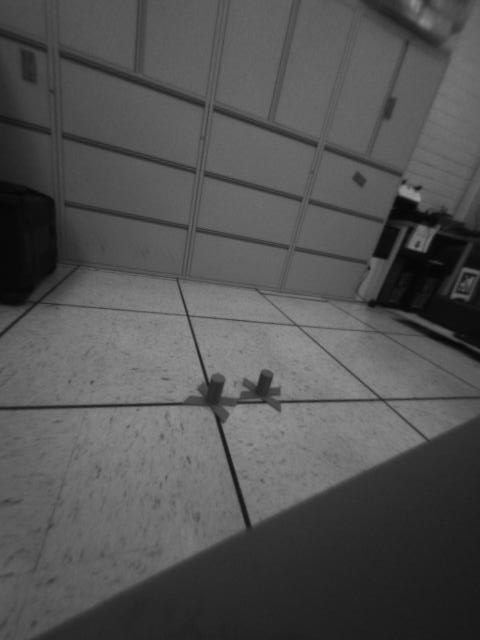X: (184, 373, 239, 426), (238, 363, 285, 418)
